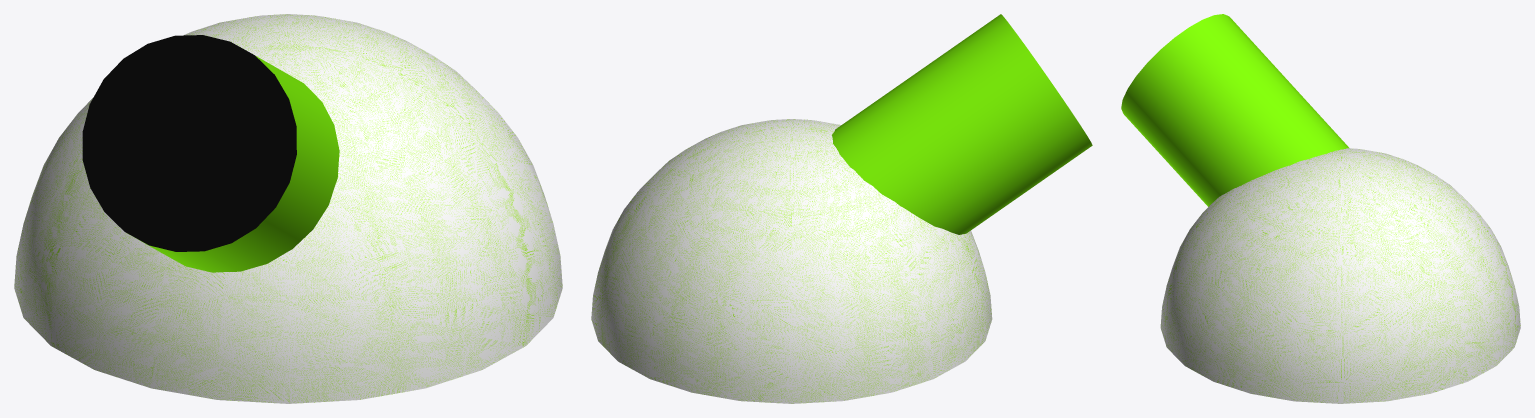
File: Cannon.dae
The picture shows the model from 3 angles, left to right: view 1: azimuth 30°, elevation 25°; view 2: azimuth 150°, elevation 25°; view 3: azimuth 270°, elevation 25°; orthographic projection. The views are drawn at different scales.
Visible parts, largest first — view 1: SketchUp, Barrel (×2); view 2: SketchUp, Barrel; view 3: SketchUp, Barrel.
Part boxes in pixels (bbox=[...]): SketchUp: bbox=[14, 14, 562, 403]; Barrel (×2): bbox=[82, 35, 339, 272]; SketchUp: bbox=[591, 119, 992, 403]; Barrel: bbox=[832, 14, 1092, 234]; SketchUp: bbox=[1160, 148, 1520, 403]; Barrel: bbox=[1121, 14, 1349, 206].
Bounding box in the file's own units: 44.65 × 43.68 × 29.81.
